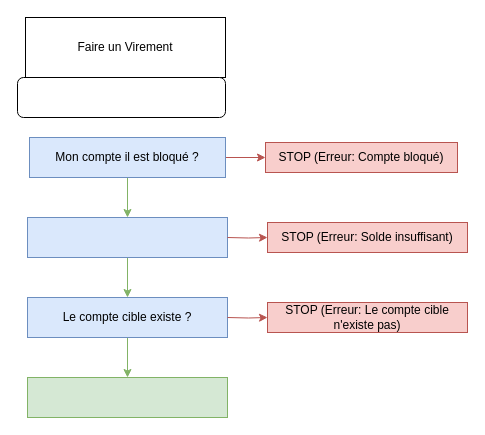
Some shapes in this 485 by 435 pixel diagram are drawn without their labels. The box of each missing label's shape, as (x1, y1, x2, y2) in pixels:
amount (le montant du virement): (16, 76, 226, 118)
Le solde du compte est suffisant ?: (26, 216, 228, 258)
OK Return true: (26, 376, 228, 418)
